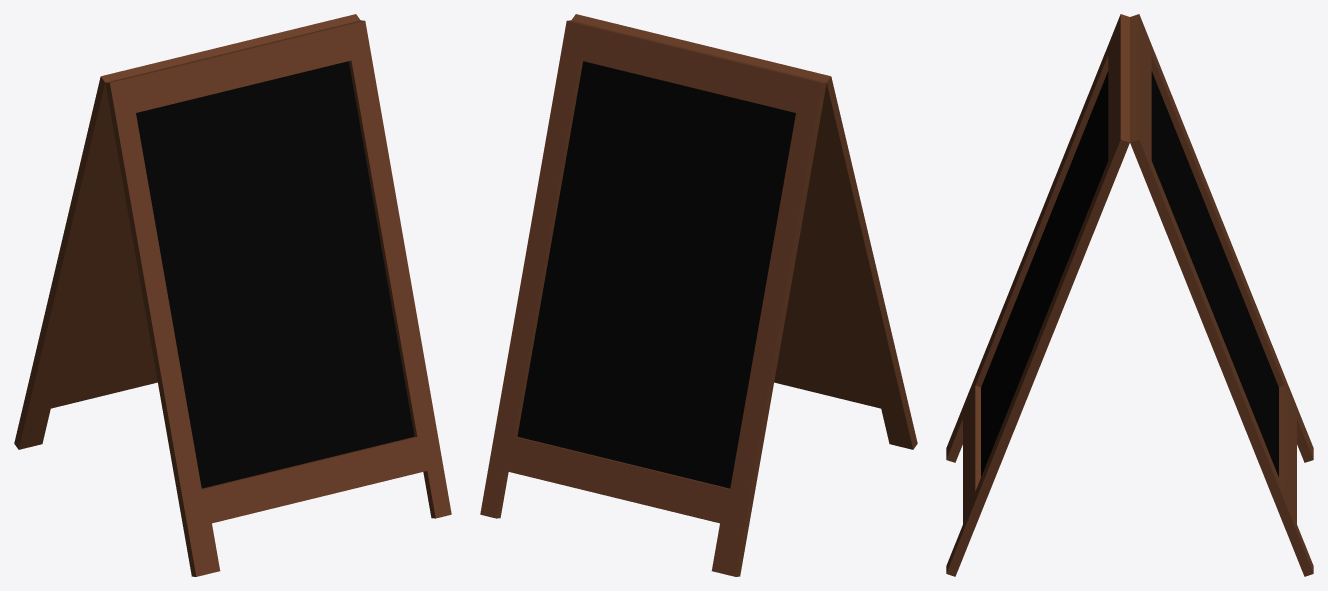
Rendered from BMBScoreboardV1.fbx.
The picture shows the model from 3 angles, left to right: view 1: azimuth 30°, elevation 25°; view 2: azimuth 150°, elevation 25°; view 3: azimuth 270°, elevation 25°; orthographic projection.
Parts seen in each view (by area): view 1: BMBScoreboard; view 2: BMBScoreboard; view 3: BMBScoreboard.
Boxes of the visible parts, <box> form: BMBScoreboard: <box>14,14,451,576</box>; BMBScoreboard: <box>480,14,917,576</box>; BMBScoreboard: <box>946,14,1313,576</box>.
Bounding box in the file's own units: 200 × 324 × 247.
